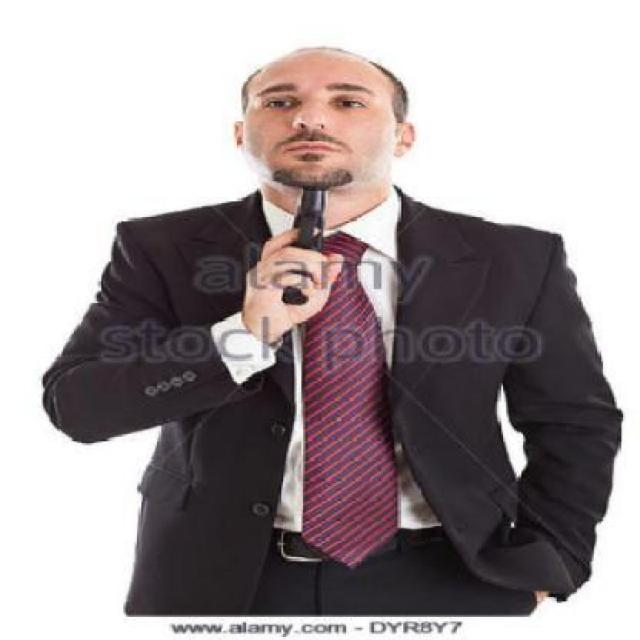gun: (247, 184, 345, 324)
